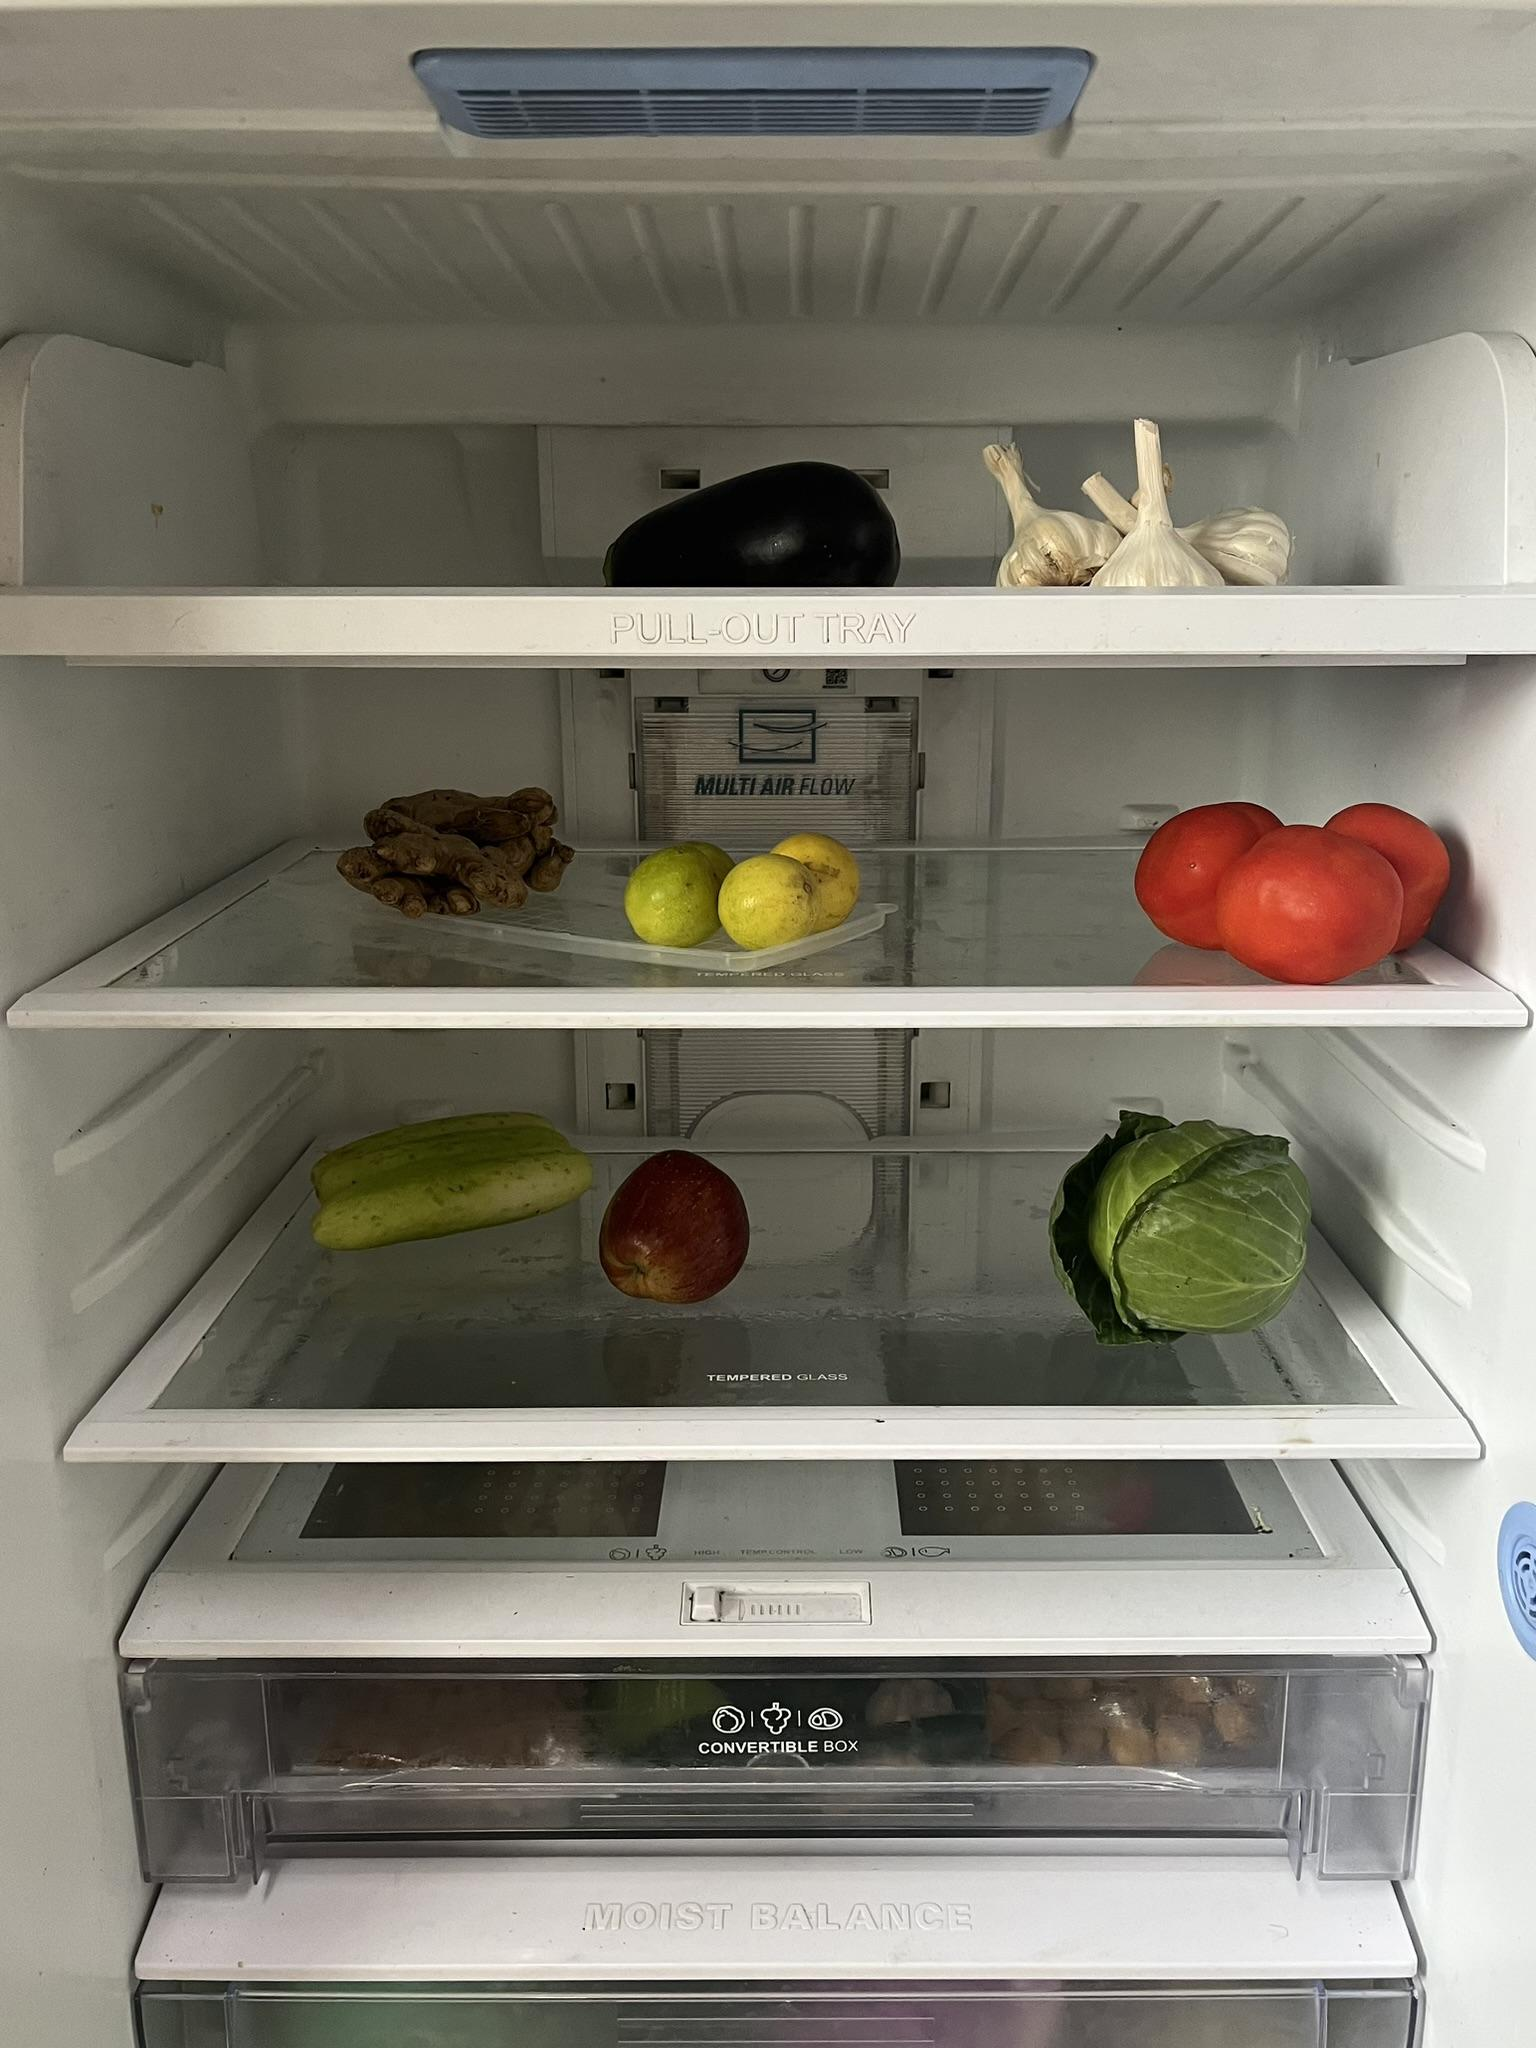apple: (592, 1148, 753, 1306)
bringal: (602, 452, 904, 592)
cabbage: (1046, 1100, 1321, 1350)
cucumber: (310, 1105, 595, 1248)
garlic: (976, 414, 1291, 590)
ginger: (334, 777, 576, 924)
lemon: (623, 824, 866, 948)
tomato: (1129, 793, 1452, 984)
